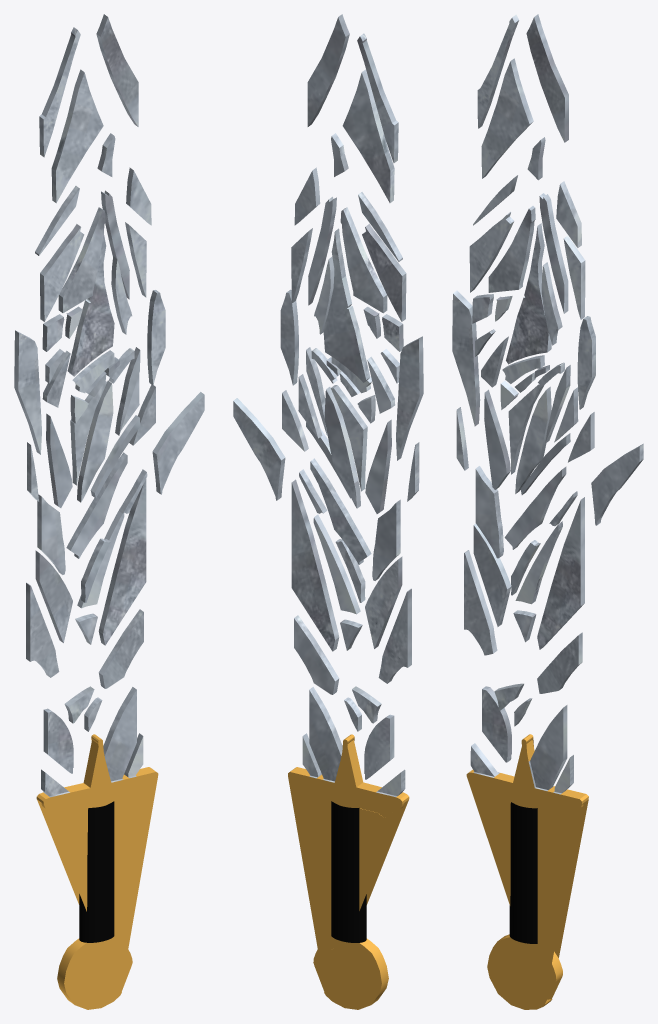
The model's file is SwordTEST.fbx.
The picture shows the model from 3 angles, left to right: view 1: azimuth 30°, elevation 25°; view 2: azimuth 150°, elevation 25°; view 3: azimuth 330°, elevation 25°; orthographic projection.
Visible parts, largest first — view 1: nEW sWORD, Cylinder.003; view 2: nEW sWORD, Cylinder.003; view 3: nEW sWORD, Cylinder.003.
Boxes of the visible parts, x1,y1,x2,y2 form: nEW sWORD: [14, 14, 204, 1009]; Cylinder.003: [79, 801, 114, 942]; nEW sWORD: [233, 14, 423, 1009]; Cylinder.003: [331, 801, 366, 942]; nEW sWORD: [452, 14, 643, 1009]; Cylinder.003: [509, 802, 537, 943].
Size of the model in its own units: 77.66 by 393 by 8.73.
